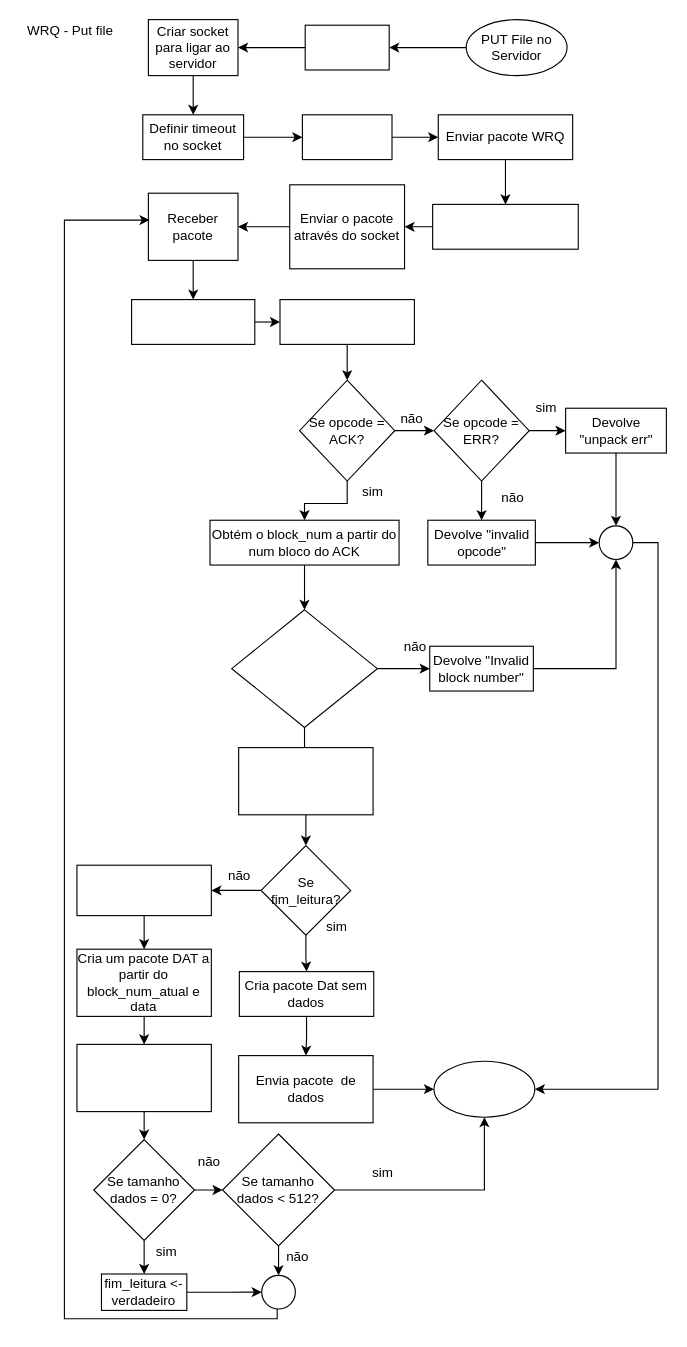
Some shapes in this 687 by 1347 pixel diagram are drawn without their labels. The centre of each missing label's shape, as x and y in pixels:
"Abrir ficheiro para leitura" belongs at point (346, 47).
"block_num_actual <- 0 fim_leitura <- falso" belongs at point (505, 226).
"block_num_atual <- block_num_atual + 1" belongs at point (305, 780).
"Criar o pacote WRQ" belongs at point (346, 137).
"data <- Ler seguintes 512B do ficheiro aberto" belongs at point (143, 890).
"Envia o pacote DAT criado para o servidor atrvés do socket" belongs at point (143, 1077).
"FIM" belongs at point (484, 1088).
"Obter o código do pacote recebido" belongs at point (192, 321).
"opcode <- código do pacote recebido" belongs at point (346, 321).
"Se block_num = block_num_atual" belongs at point (304, 668).
